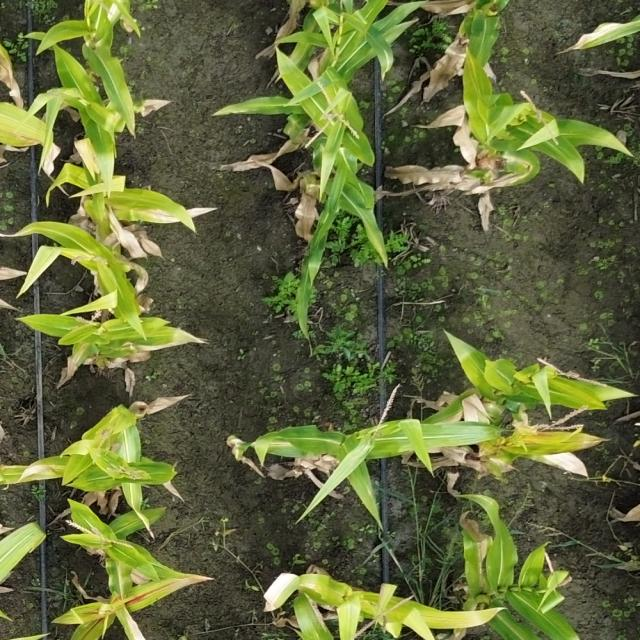northern-leaf-blight: (114, 177, 224, 242), (96, 558, 205, 616), (103, 311, 201, 360)
